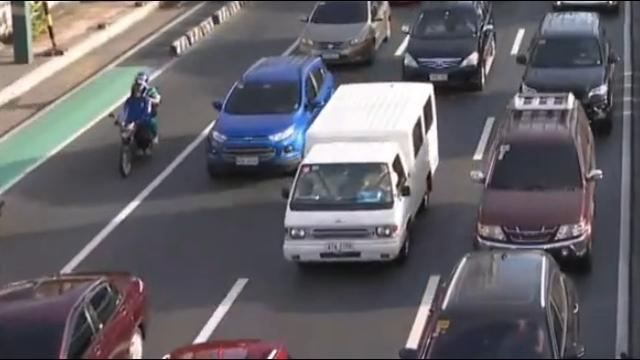car: (469, 89, 605, 269), (391, 247, 593, 360), (201, 50, 335, 185), (0, 265, 155, 360), (509, 10, 621, 127), (397, 0, 501, 89), (296, 0, 395, 67)
motorcycle: (109, 67, 162, 187)
